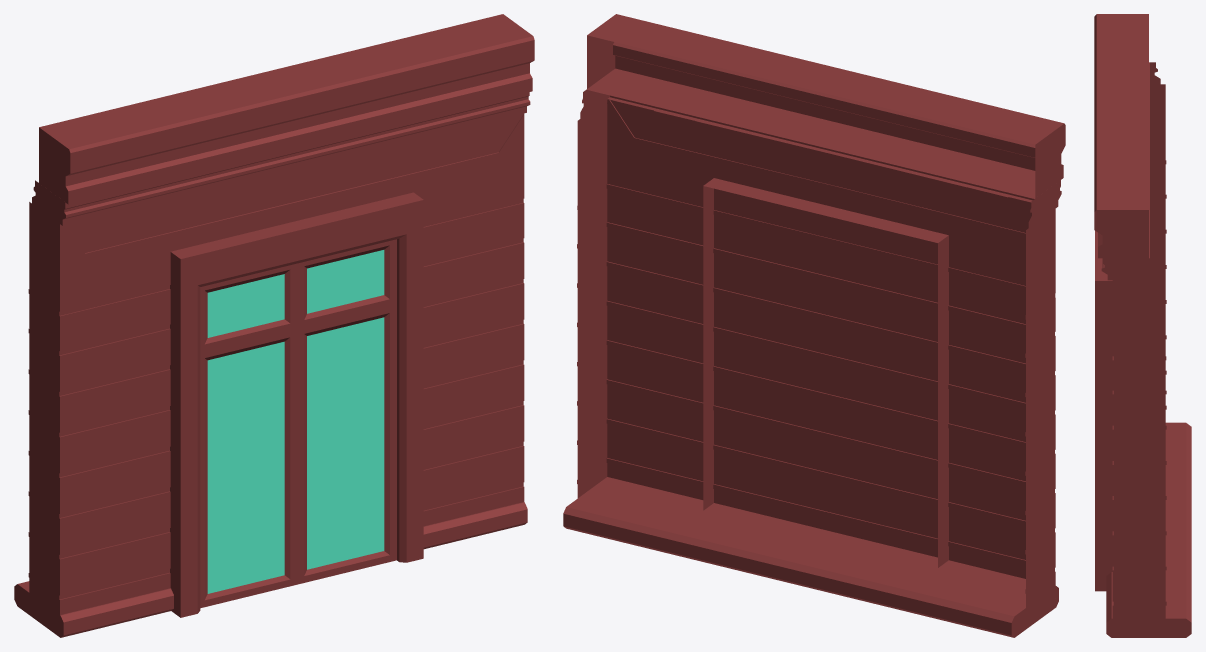
File: O_V_FacadeType1Door_Down.fbx
3 renders of one model, left to right at view 1: azimuth 30°, elevation 25°; view 2: azimuth 150°, elevation 25°; view 3: azimuth 270°, elevation 25°, orthographic. The views are drawn at different scales.
Visible parts, largest first — view 1: O_V_FacadeType1Door_Down; view 2: O_V_FacadeType1Door_Down; view 3: O_V_FacadeType1Door_Down.
Part boxes in pixels (x1,y1,x2,y2): O_V_FacadeType1Door_Down: (14, 14, 534, 637); O_V_FacadeType1Door_Down: (563, 14, 1065, 637); O_V_FacadeType1Door_Down: (1094, 14, 1191, 637).
Size of the model in its own units: 6.38 by 6.5 by 1.34.
